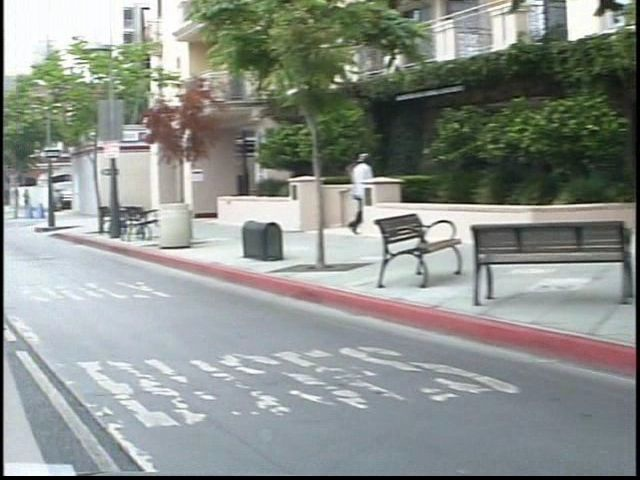person: (327, 145, 355, 235), (4, 181, 22, 215)
